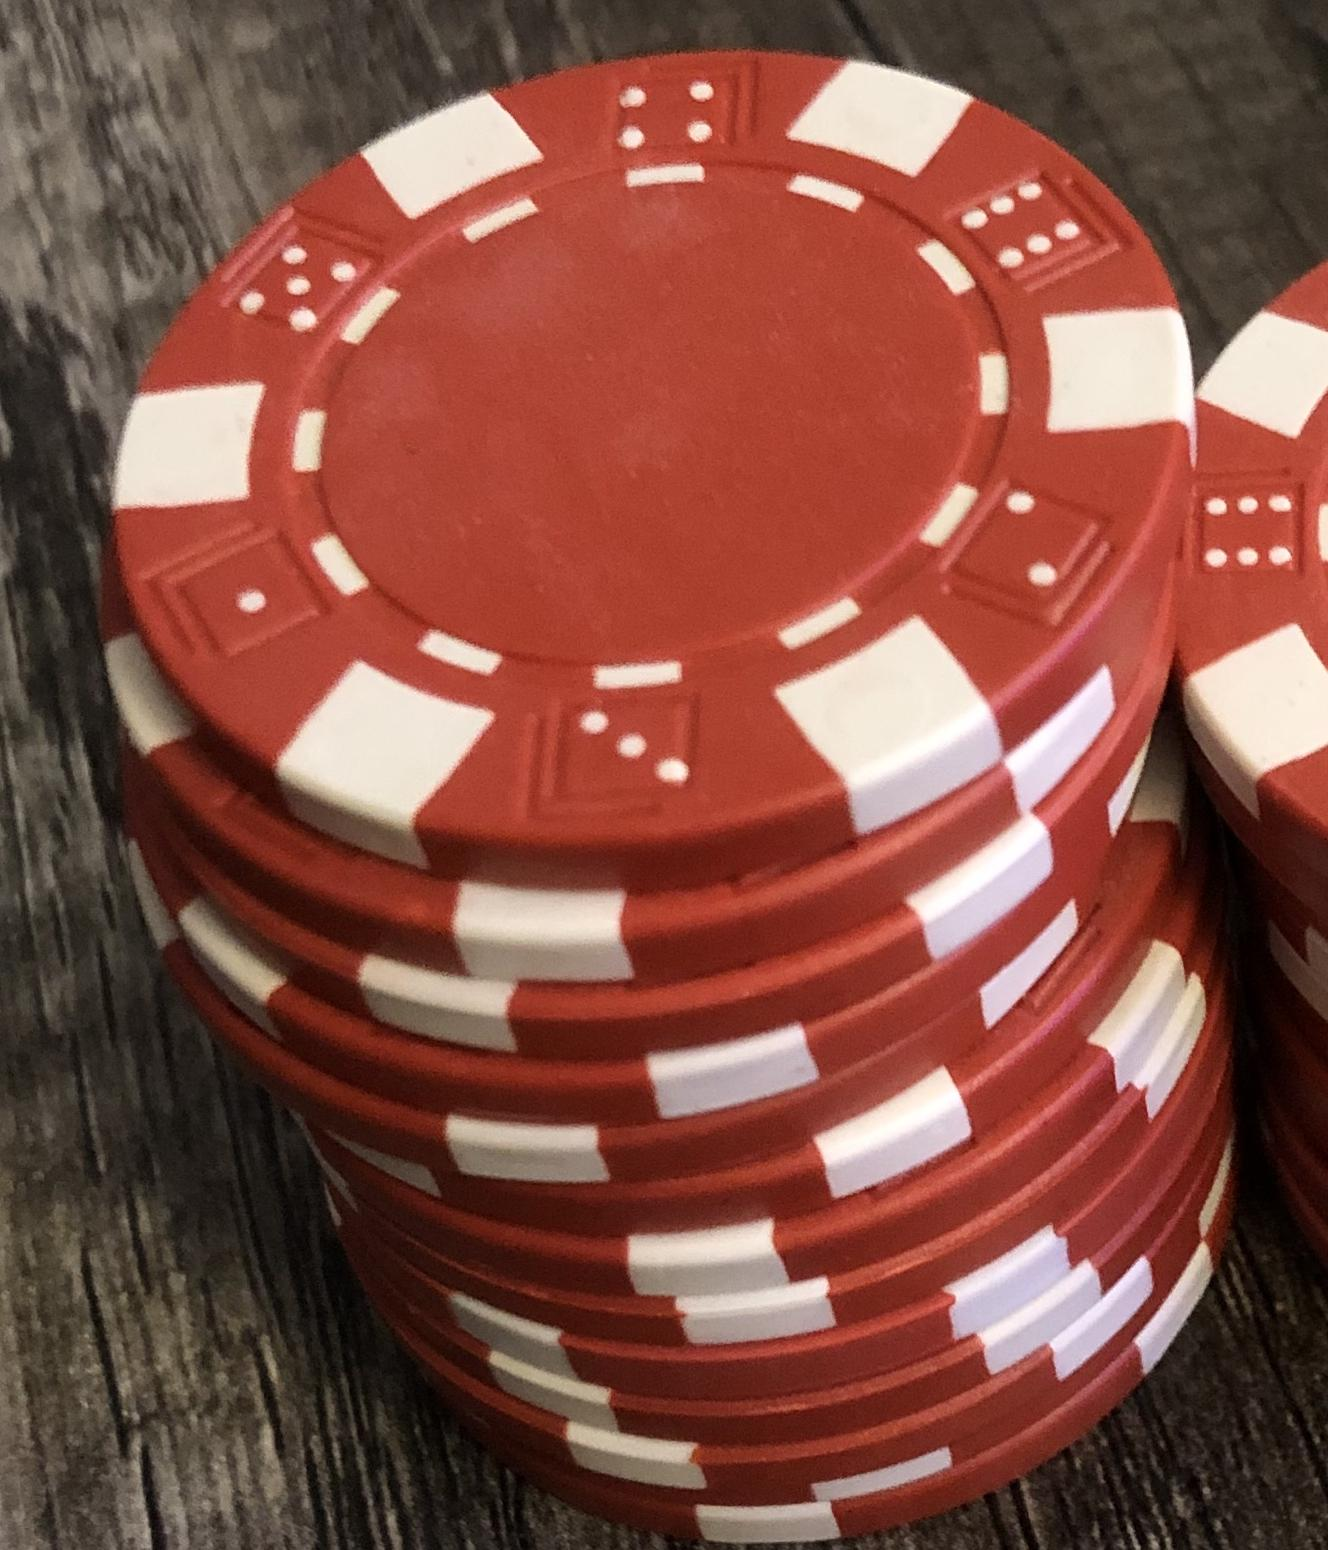Chip: (1, 1, 1328, 1550)
